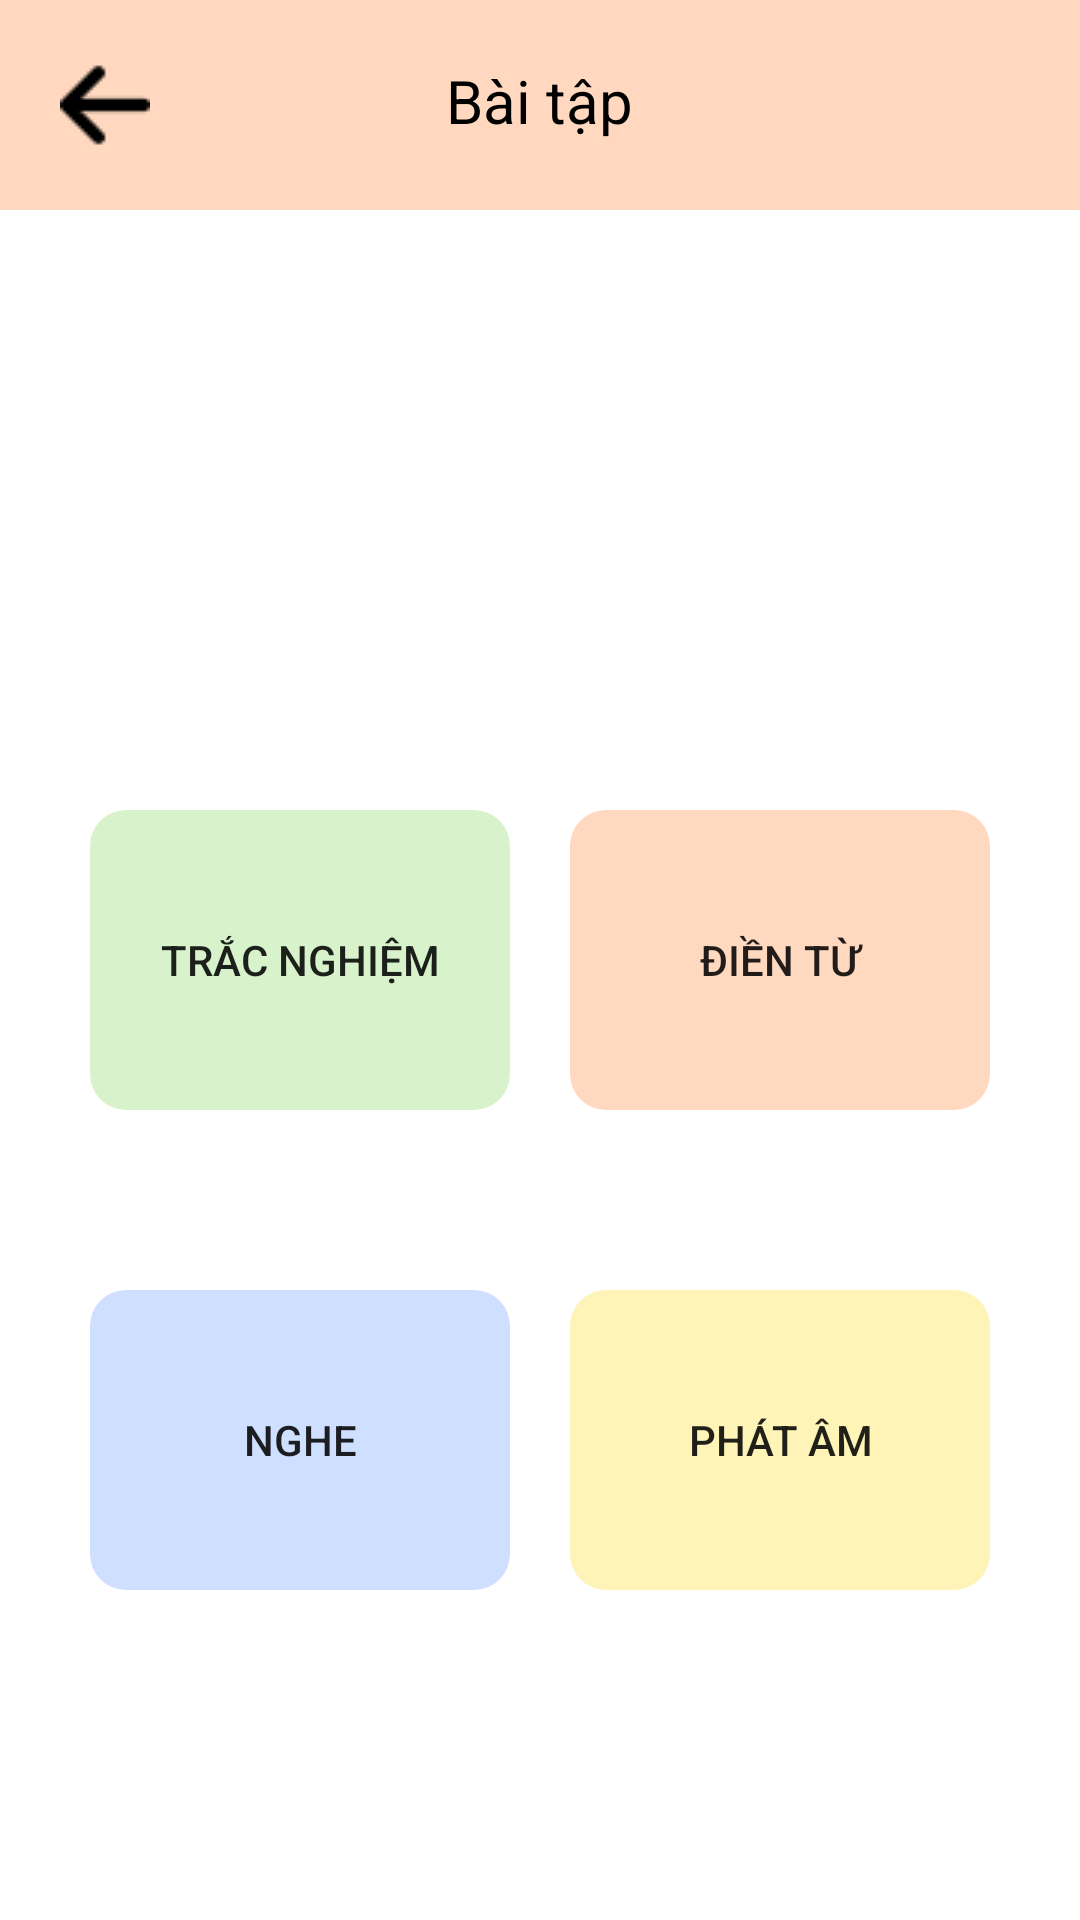

Icons on this 1080 x 1920 Android screen, each with its box as (x1, y1, x2, y2):
back: (60, 65, 150, 145)
